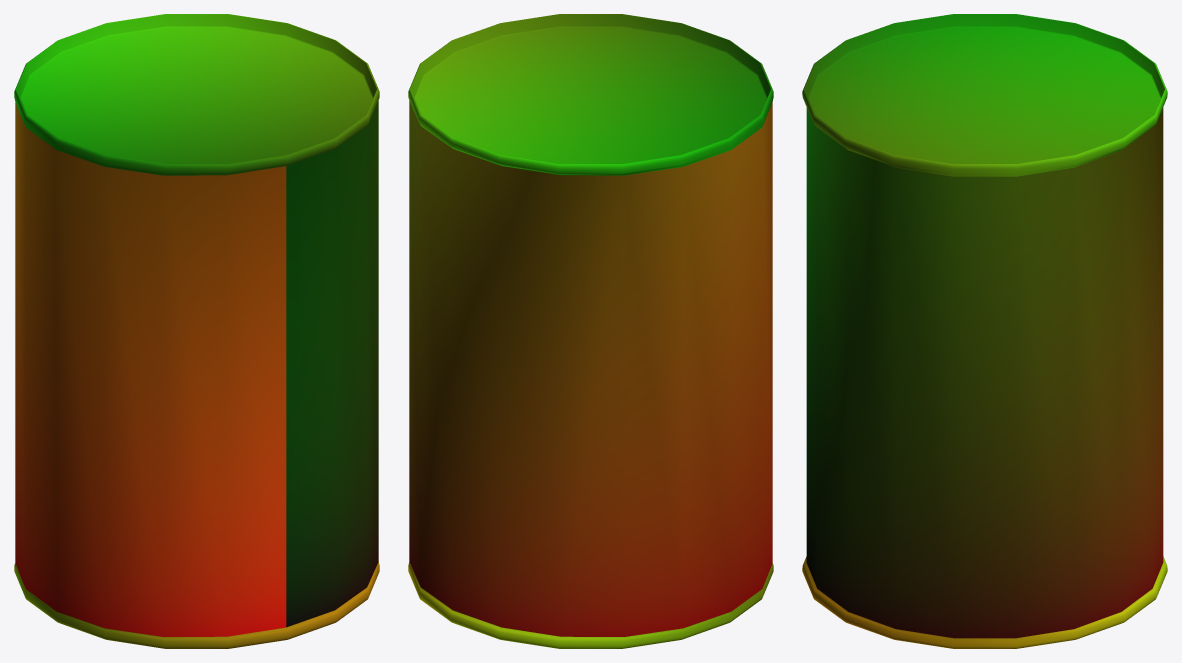
The model's file is TomatoTin.fbx.
3 renders of one model, left to right at view 1: azimuth 30°, elevation 25°; view 2: azimuth 150°, elevation 25°; view 3: azimuth 270°, elevation 25°, orthographic.
Visible parts, largest first — view 1: Tube001; view 2: Tube001; view 3: Tube001.
Boxes of the visible parts, box(x1,y1,x2,y2) form: Tube001: box(14, 14, 379, 648); Tube001: box(408, 14, 773, 648); Tube001: box(802, 14, 1167, 648).
Size of the model in its own units: 7.39 by 10.97 by 7.5.
